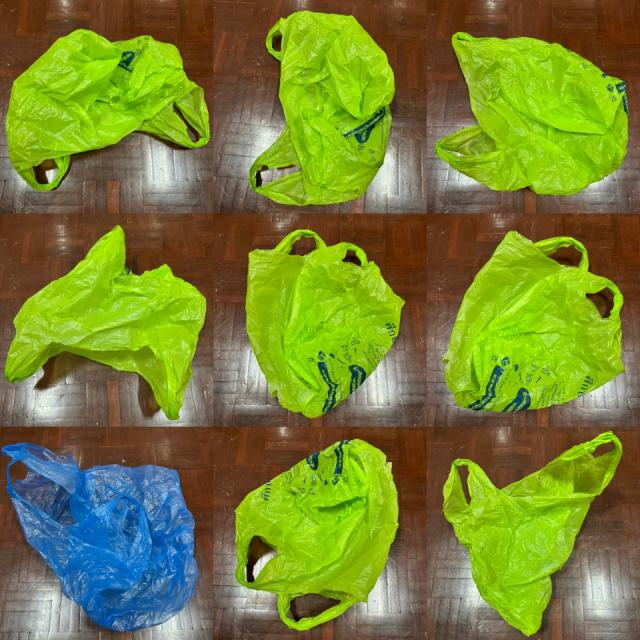Single-layer Plastic: (5, 226, 206, 419), (2, 442, 199, 631), (444, 431, 622, 635), (6, 29, 210, 190), (444, 231, 624, 411), (436, 32, 629, 194), (235, 439, 399, 629), (246, 230, 404, 418), (249, 11, 395, 204)
